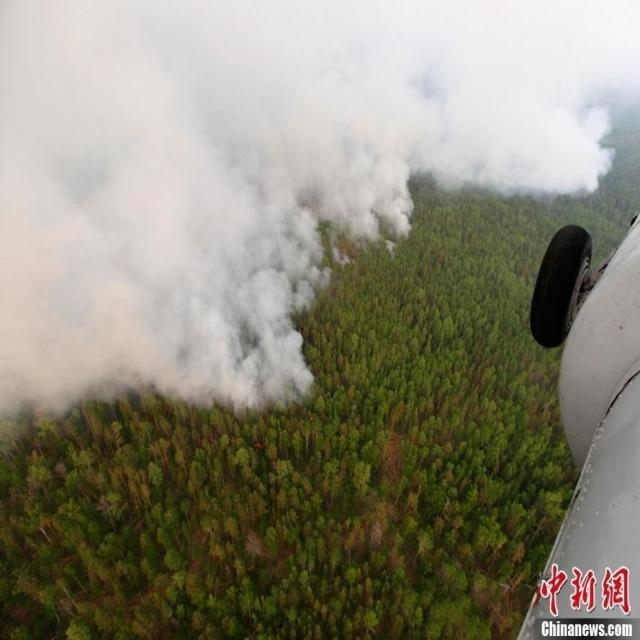Smoke: (1, 1, 616, 432)
